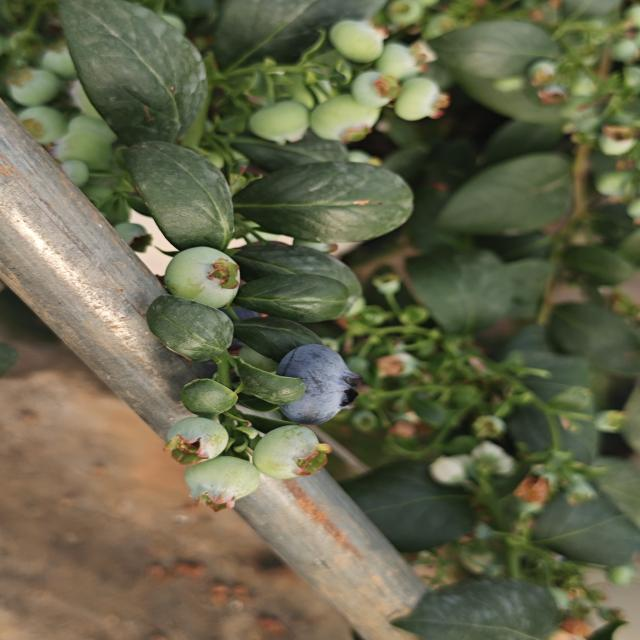ripe: (282, 343, 354, 421)
